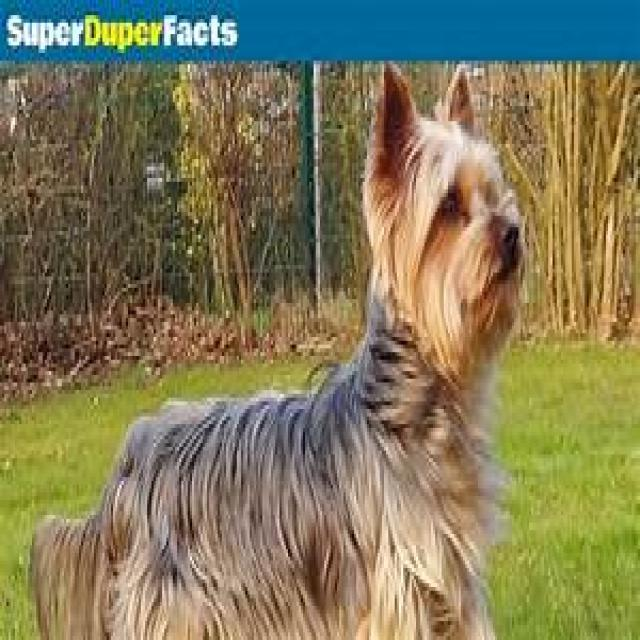dog: (32, 68, 524, 638)
